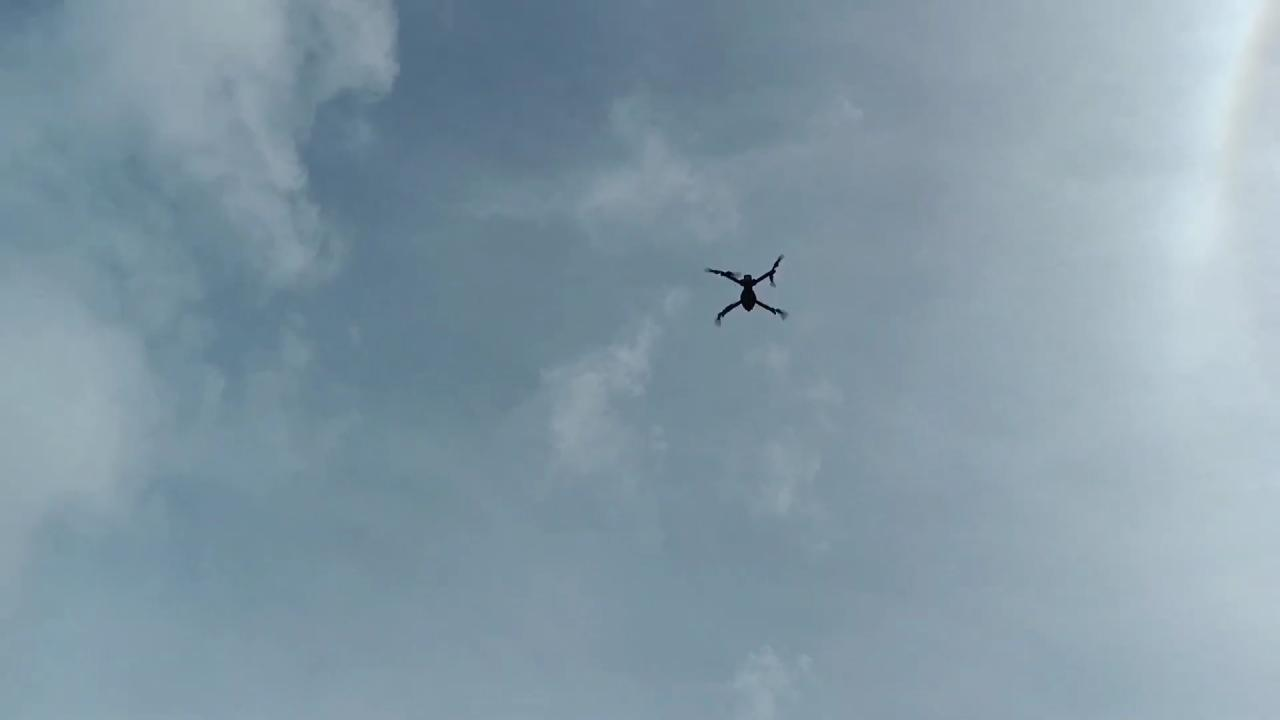Drone: (696, 245, 802, 338)
